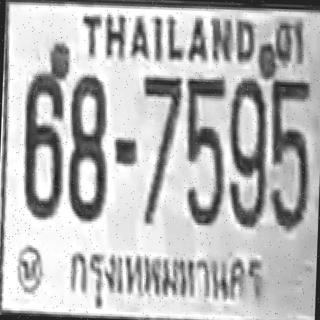N05: (267, 77, 312, 229), (181, 75, 226, 224), (184, 75, 225, 175)
N06: (20, 64, 66, 218)
N07: (138, 74, 182, 220), (139, 73, 182, 195), (140, 73, 181, 171), (140, 74, 182, 162)
N08: (66, 72, 108, 219)
N09: (225, 76, 269, 226)
P04: (62, 237, 266, 317)
